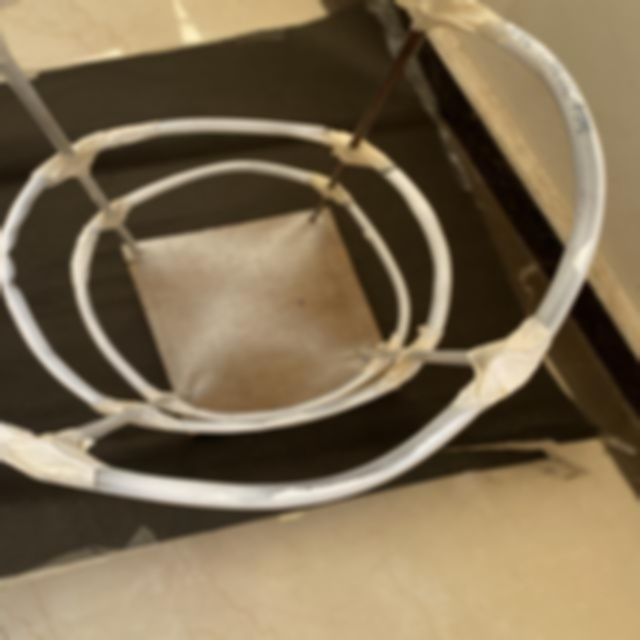silo: (0, 0, 603, 503)
